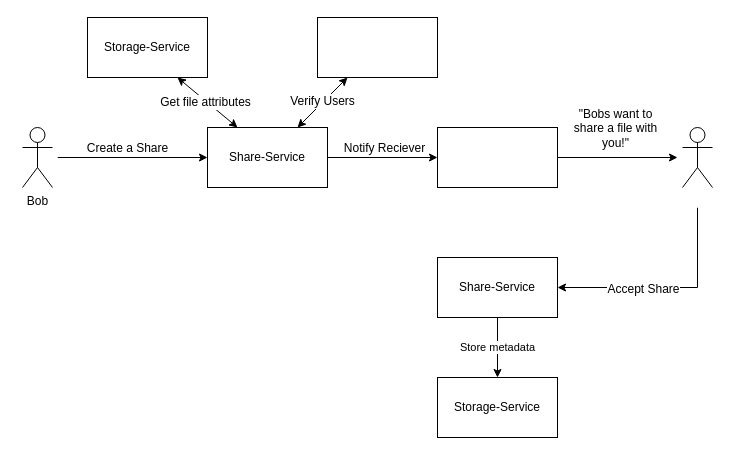
Some shapes in this 734 by 455 pixel diagram are drawn without their labels. The shapes that lost their labels are listed below. From the top down, each one's centre as x and y in pixels, then its label:
point 377,47: Authentication-Service
point 497,157: Notification-Service
point 697,157: Alice
